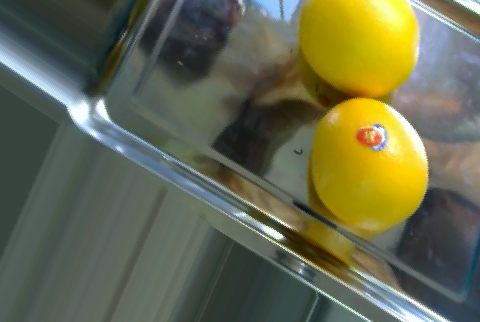Orange: (309, 97, 429, 232), (295, 1, 421, 99)
